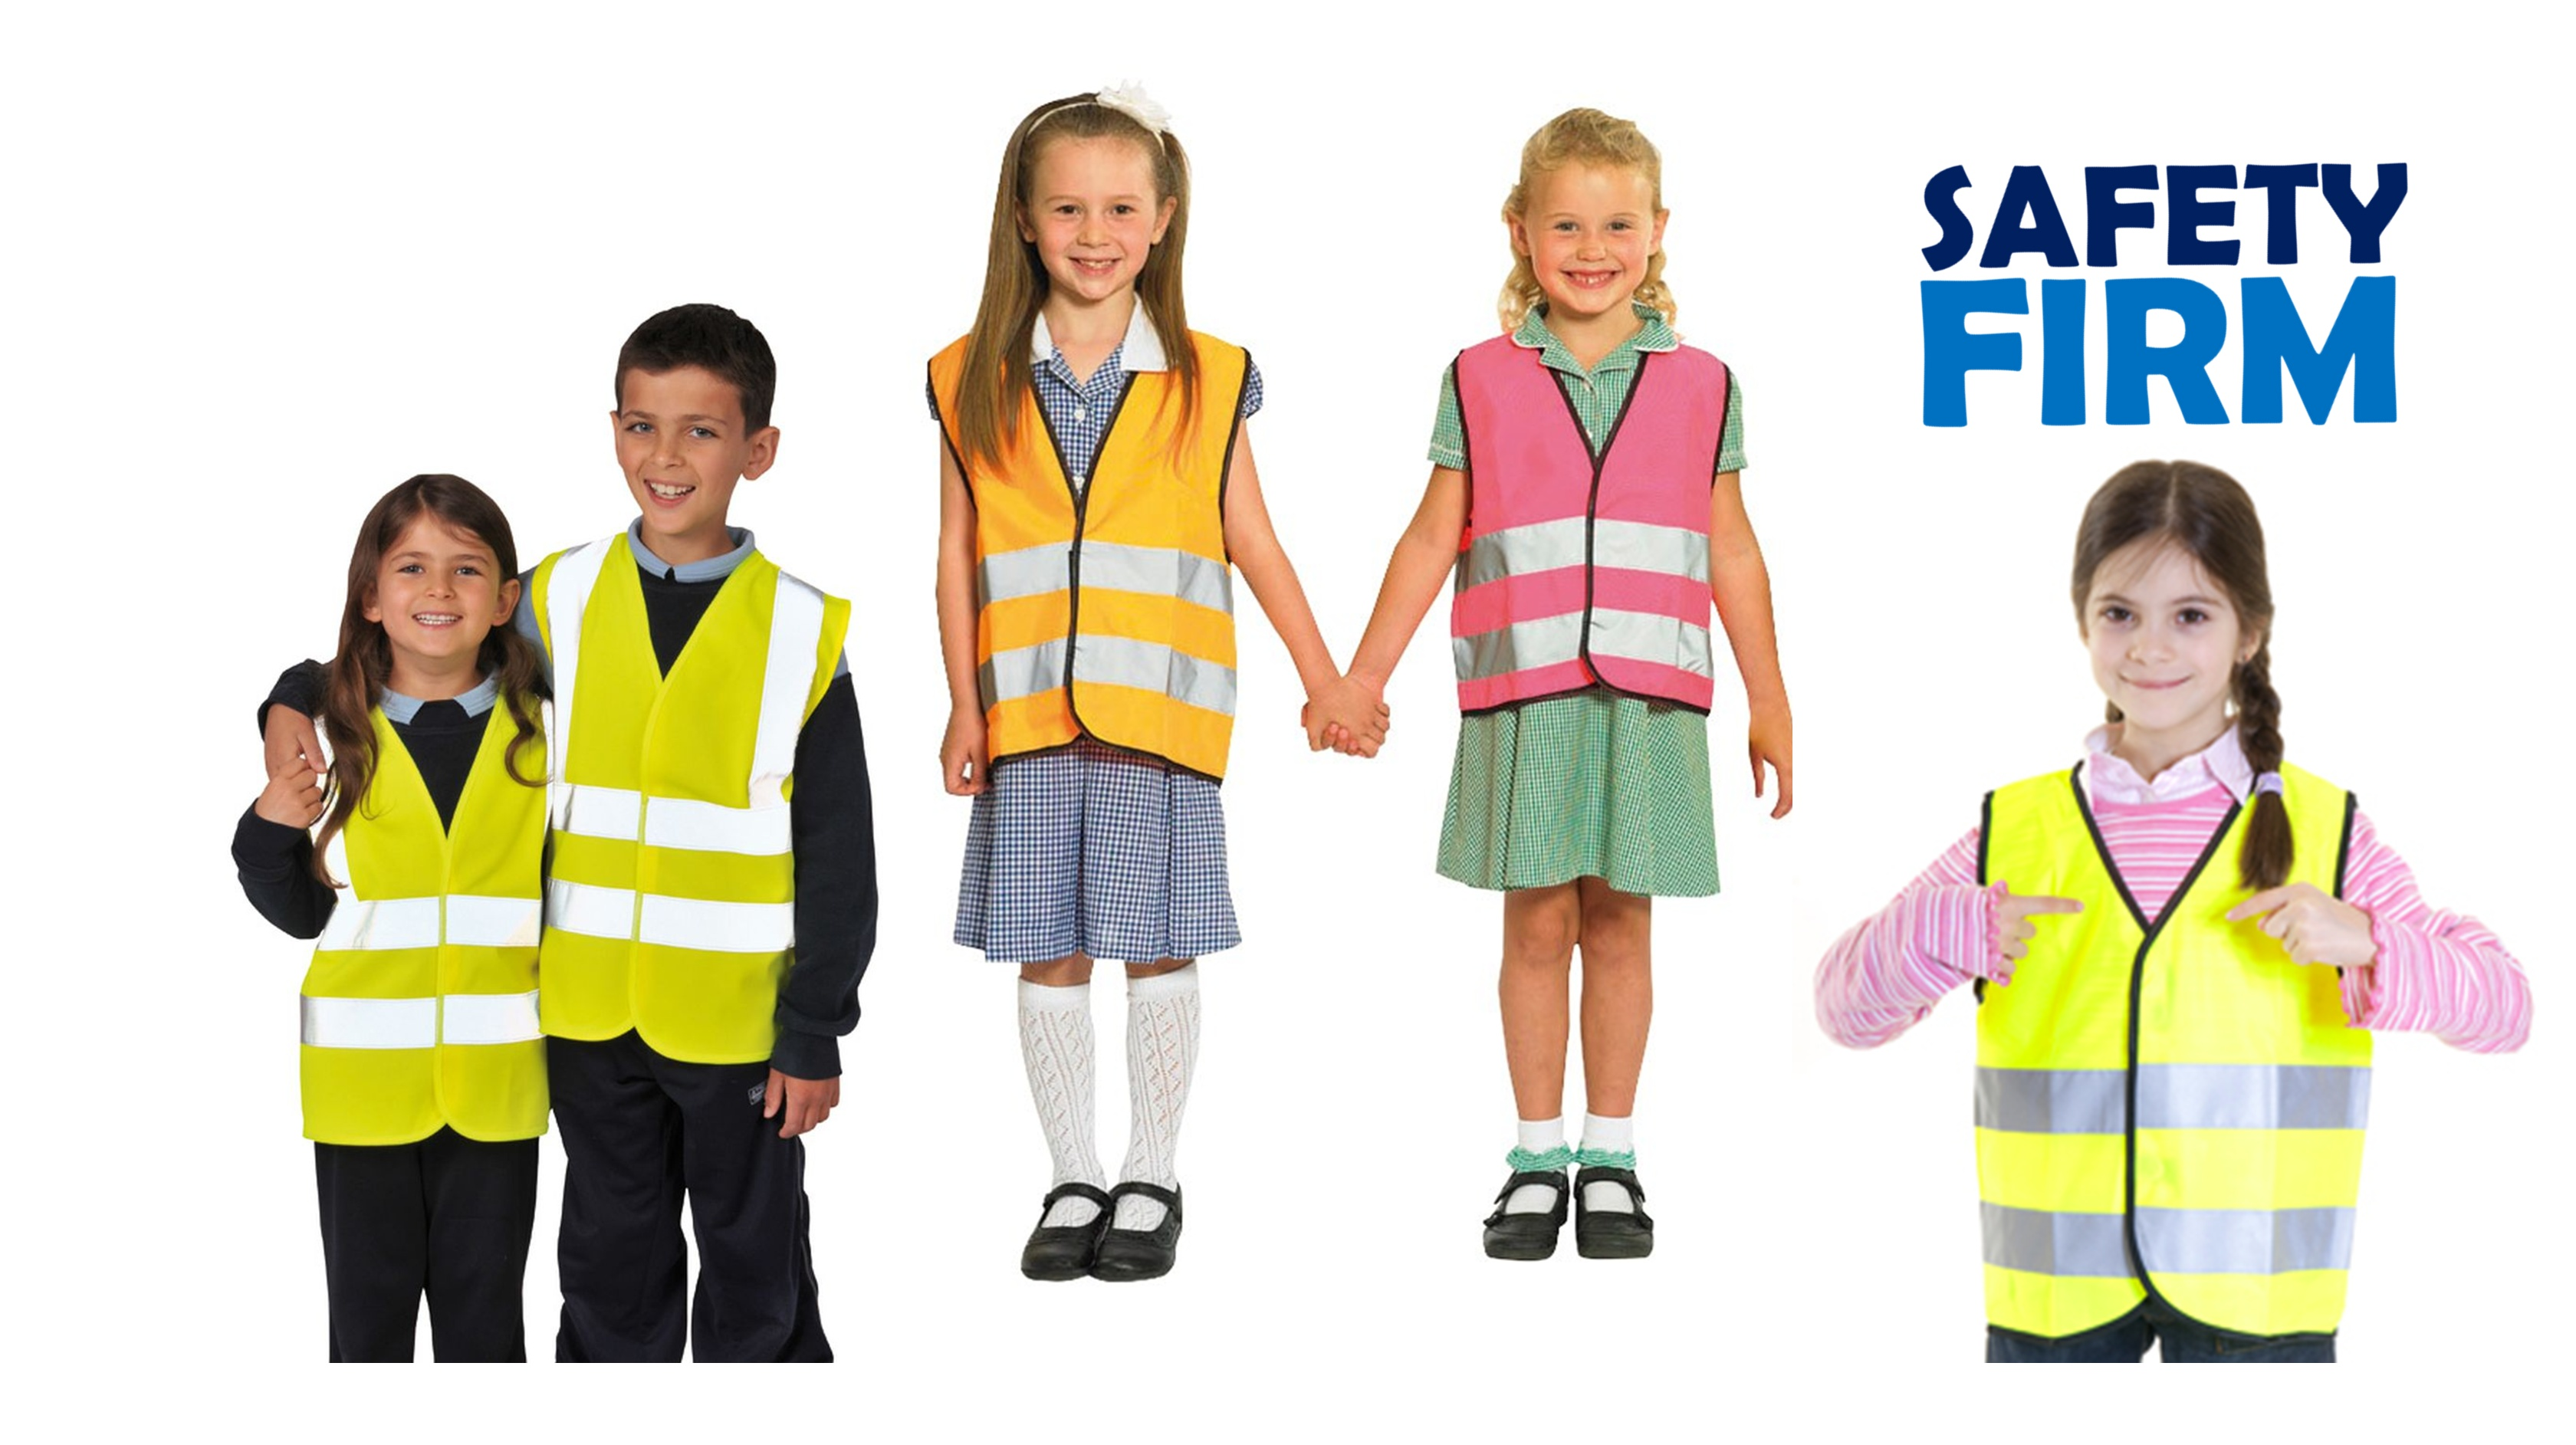person with partial safety: (910, 87, 1279, 1290), (1947, 455, 2394, 1367), (498, 302, 863, 1364), (1417, 102, 1722, 1270), (250, 480, 560, 1361)
safety vest: (1973, 752, 2372, 1347), (912, 315, 1258, 780), (534, 521, 820, 1070), (282, 672, 554, 1148), (1444, 330, 1729, 717)
